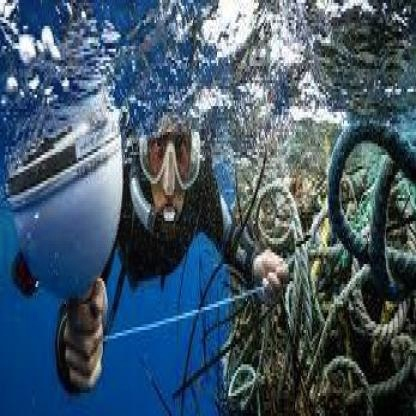net: (230, 112, 416, 416)
